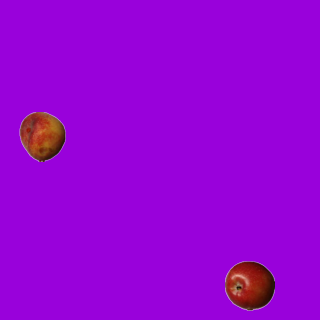Apple Braeburn: (224, 260, 274, 310)
Peach: (17, 111, 67, 161)
